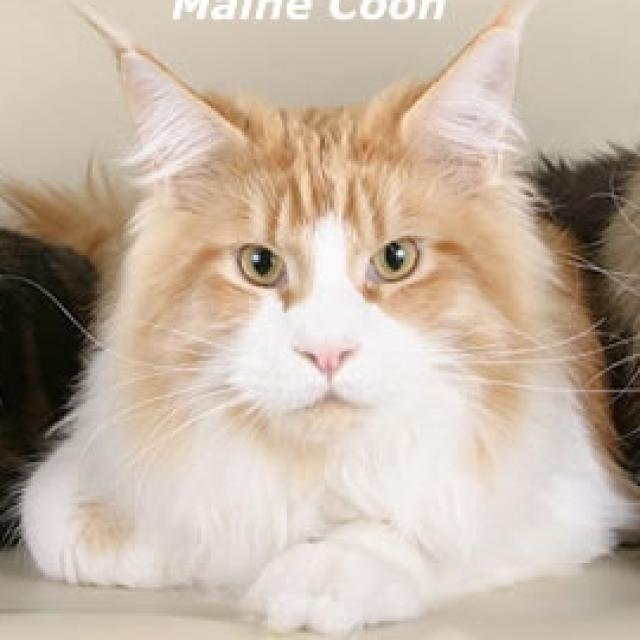Maine Coon: (15, 18, 633, 638)
